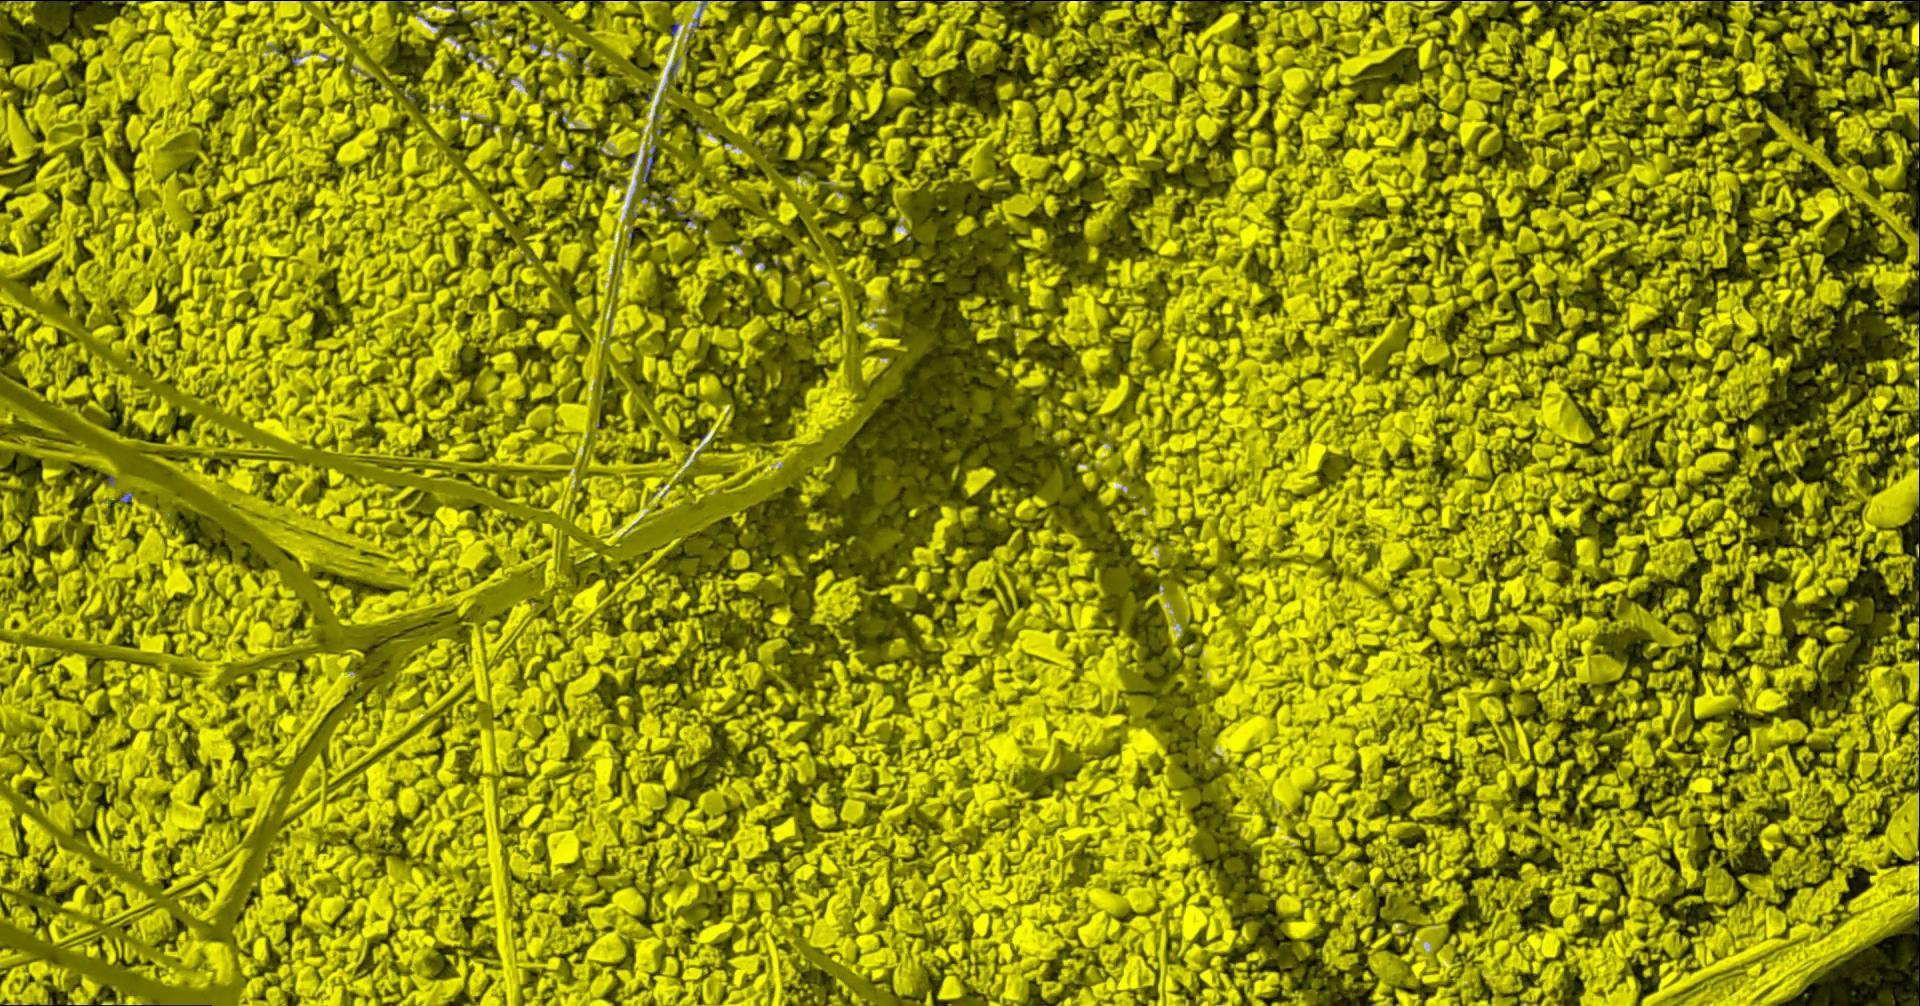ant: (643, 145, 658, 180)
